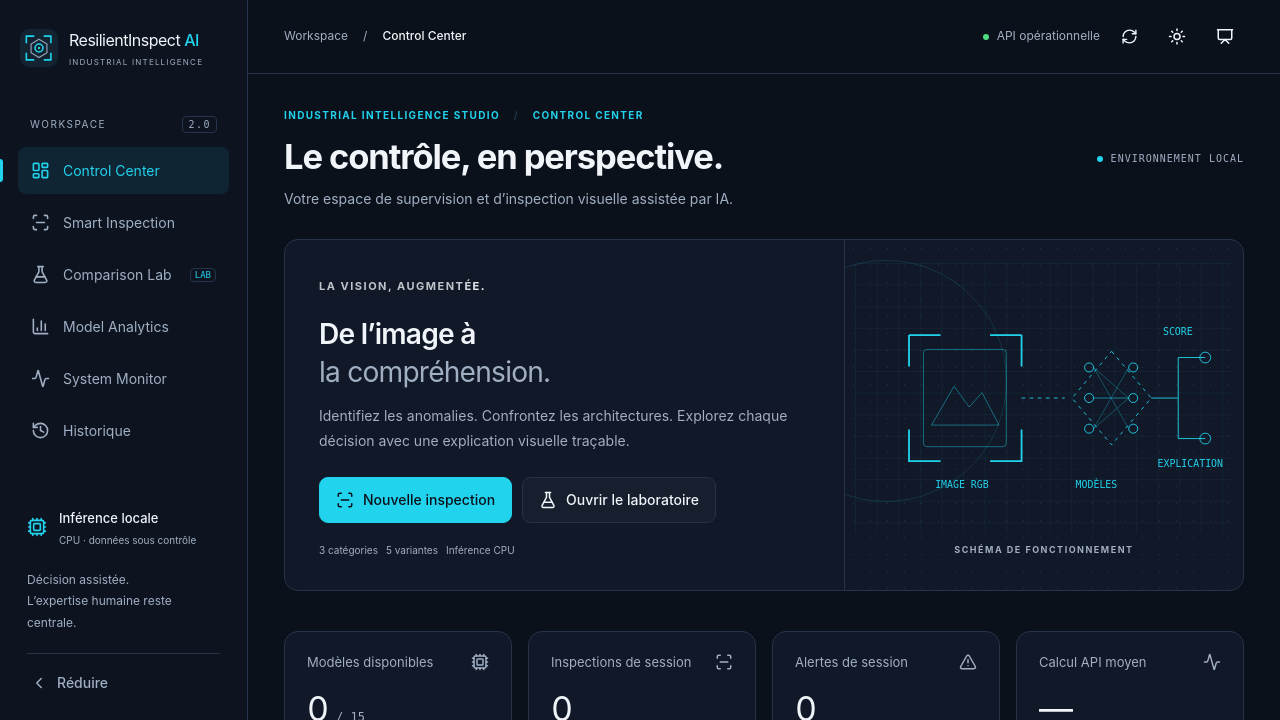
Scenario: studio defaults to Control Center and navigates through every functional workspace
The width and height of the screenshot is (1280, 720).
Expected: the text "API opérationnelle" is shown, [983,27,1100,46]
Expected: the heading "Le contrôle, en perspective." is shown, [284,134,733,178]
Click the link "Smart Inspection".
click(103, 223)  # box [31,213,175,232]
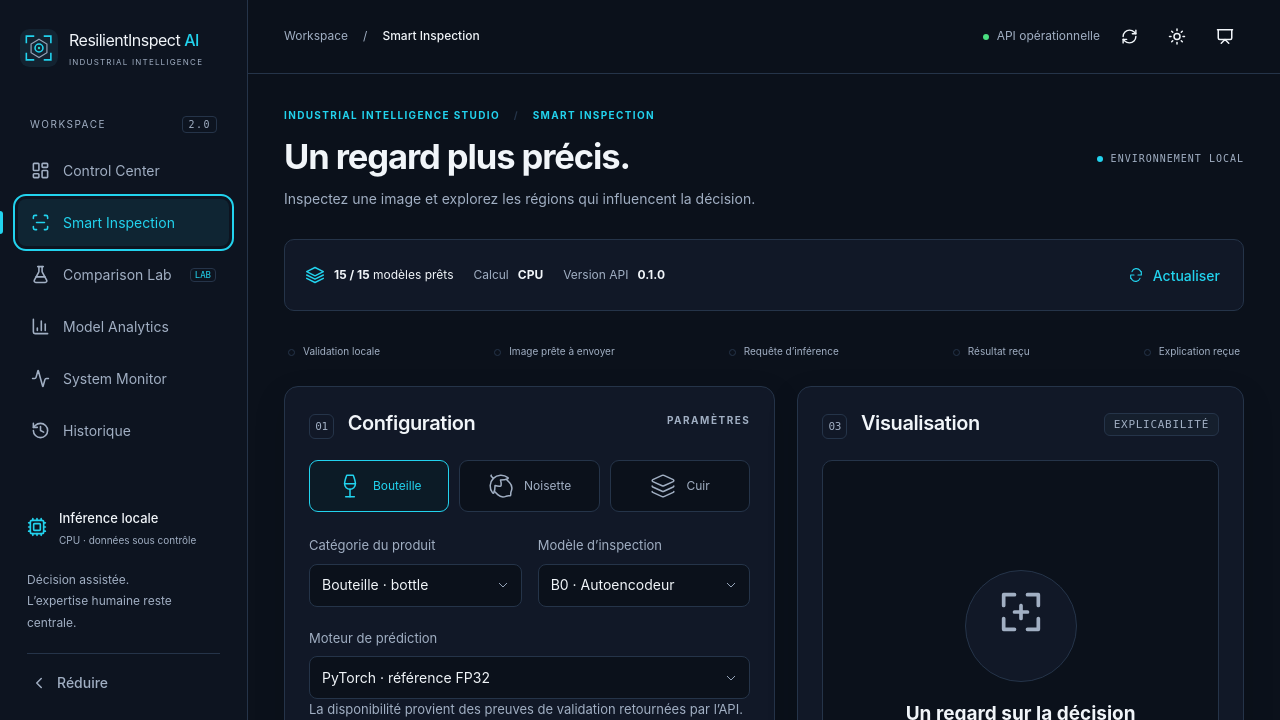
Expected: the heading "Un regard plus précis." is shown, [284,136,630,176]
Click the link "Comparison Lab LAB".
click(124, 275)  # box [31,265,216,284]
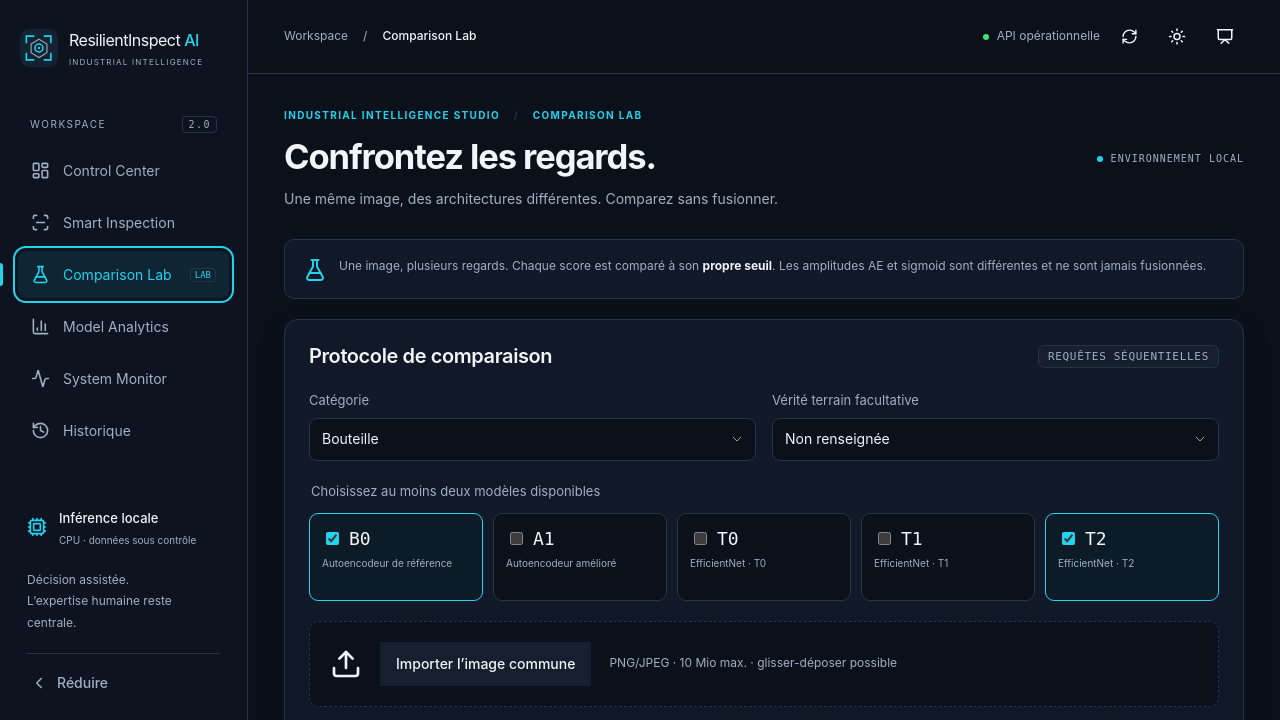
Expected: the heading "Protocole de comparaison" is shown, [309,344,552,369]
Expected: the file field named "Image de comparaison" is shown, [380,642,591,686]
Click the link "Model Analytics".
click(100, 327)  # box [31,317,169,336]
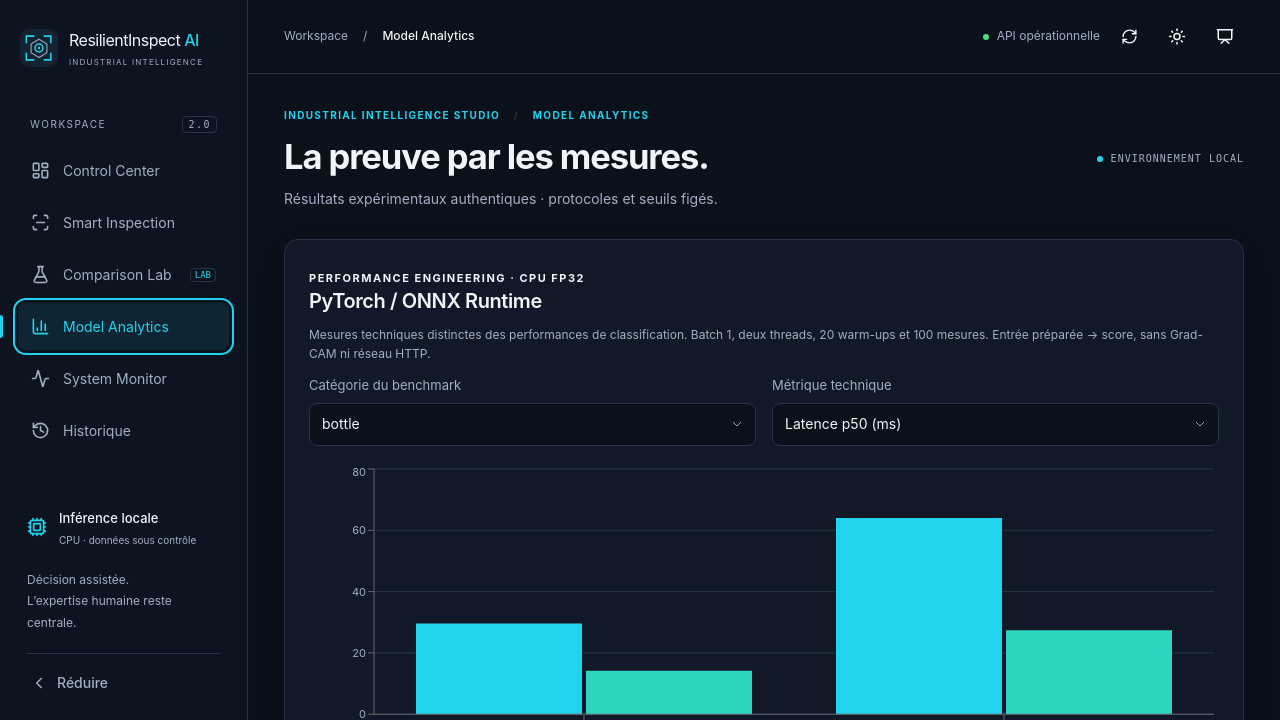
Click the link "System Monitor".
click(99, 379)  # box [31,369,167,388]
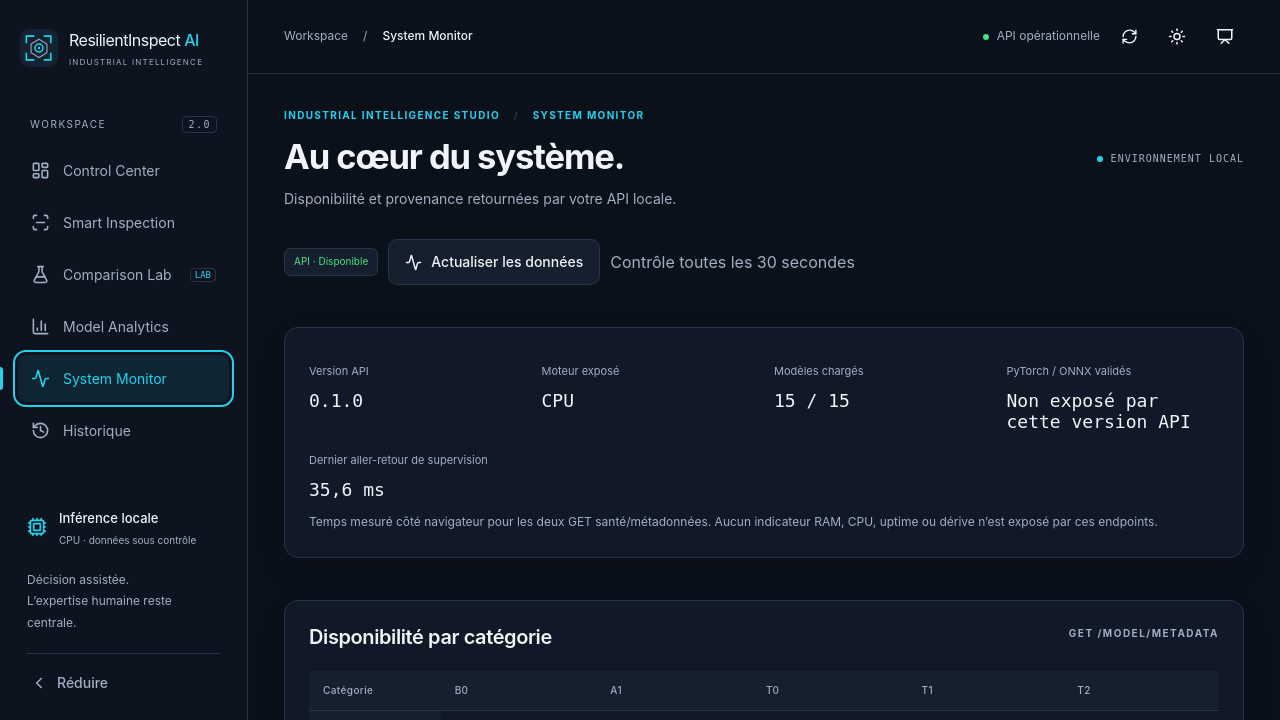
Expected: the text "15 / 15" is shown, [774,390,850,411]
Click the link "Historique".
click(81, 431)  # box [31,421,131,440]
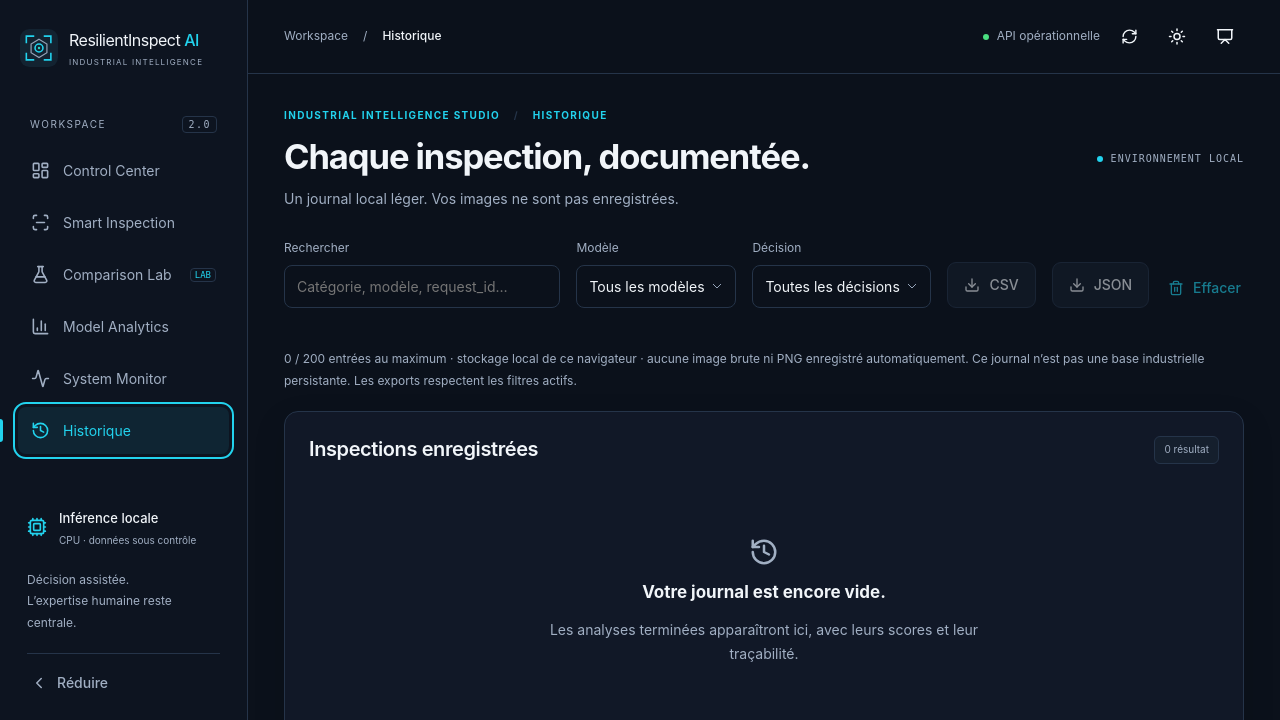
Expected: the heading "Votre journal est encore vide." is shown, [642,582,886,603]
